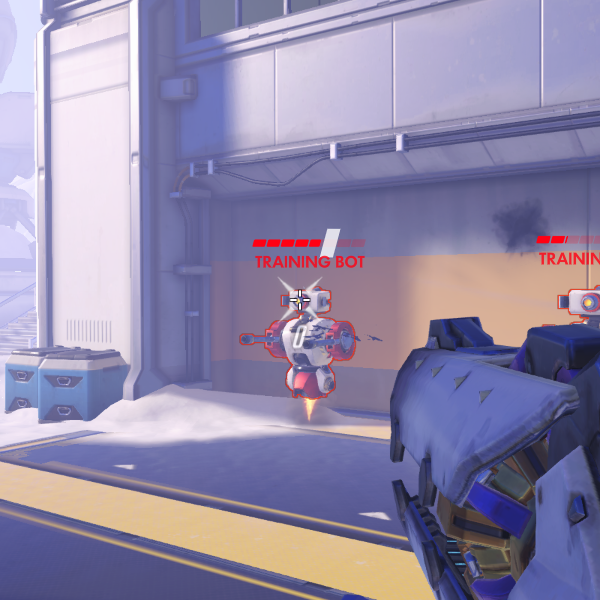hpbar: (252, 238, 366, 248), (536, 235, 600, 244)
